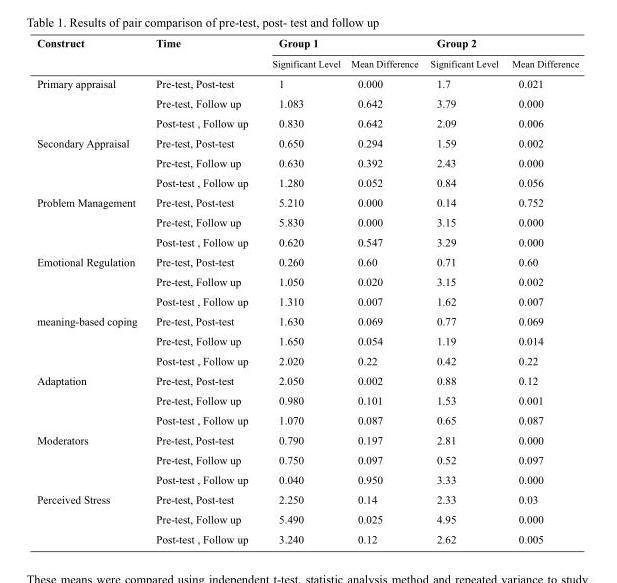table: (36, 36, 578, 544)
table column: (145, 36, 259, 544), (36, 36, 145, 544), (259, 36, 345, 544), (423, 36, 504, 544), (345, 36, 423, 544), (504, 36, 578, 544)
table column header: (36, 36, 578, 72)
table row: (36, 72, 578, 93), (36, 112, 578, 132), (36, 132, 578, 152), (36, 152, 578, 172), (36, 172, 578, 192), (36, 211, 578, 231), (36, 231, 578, 251), (36, 251, 578, 271), (36, 271, 578, 291), (36, 310, 578, 330), (36, 330, 578, 350), (36, 350, 578, 370), (36, 370, 578, 390), (36, 409, 578, 429), (36, 429, 578, 449), (36, 449, 578, 469), (36, 469, 578, 489), (36, 508, 578, 528), (36, 53, 578, 72), (36, 93, 578, 112), (36, 192, 578, 211), (36, 291, 578, 310), (36, 390, 578, 409), (36, 489, 578, 508), (36, 36, 578, 53), (36, 528, 578, 544)
table spanning cell: (36, 72, 145, 132), (36, 132, 145, 192), (36, 310, 145, 370), (36, 429, 145, 489), (36, 192, 145, 251), (36, 251, 145, 310), (36, 370, 145, 429), (36, 489, 145, 544), (145, 36, 259, 72), (36, 36, 145, 72), (259, 36, 423, 53), (423, 36, 578, 53)
